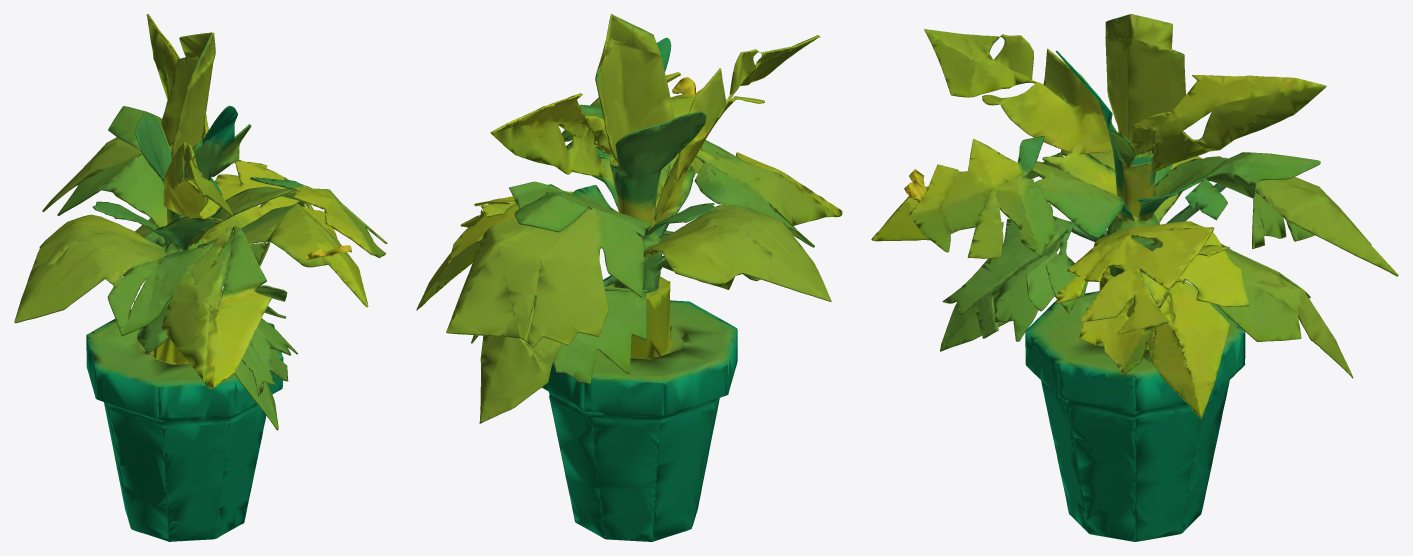
The model's file is bg_big_plant.glb.
The picture shows the model from 3 angles, left to right: view 1: azimuth 30°, elevation 25°; view 2: azimuth 150°, elevation 25°; view 3: azimuth 270°, elevation 25°; orthographic projection. The views are drawn at different scales.
Parts seen in each view (by area): view 1: tripo_node_b181b3ab-6a91-4790-a49e-f839b0cf76cb; view 2: tripo_node_b181b3ab-6a91-4790-a49e-f839b0cf76cb; view 3: tripo_node_b181b3ab-6a91-4790-a49e-f839b0cf76cb.
Boxes of the visible parts, x1,y1,x2,y2 form: tripo_node_b181b3ab-6a91-4790-a49e-f839b0cf76cb: (14, 14, 387, 541); tripo_node_b181b3ab-6a91-4790-a49e-f839b0cf76cb: (416, 14, 842, 541); tripo_node_b181b3ab-6a91-4790-a49e-f839b0cf76cb: (871, 14, 1398, 541).
Bounding box in the file's own units: 0.7907 × 1 × 0.9298.
Materials: 1 (1 with a texture image).
